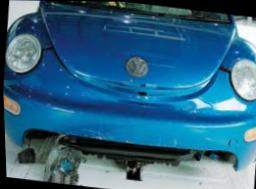Bumper: (7, 104, 245, 189)
